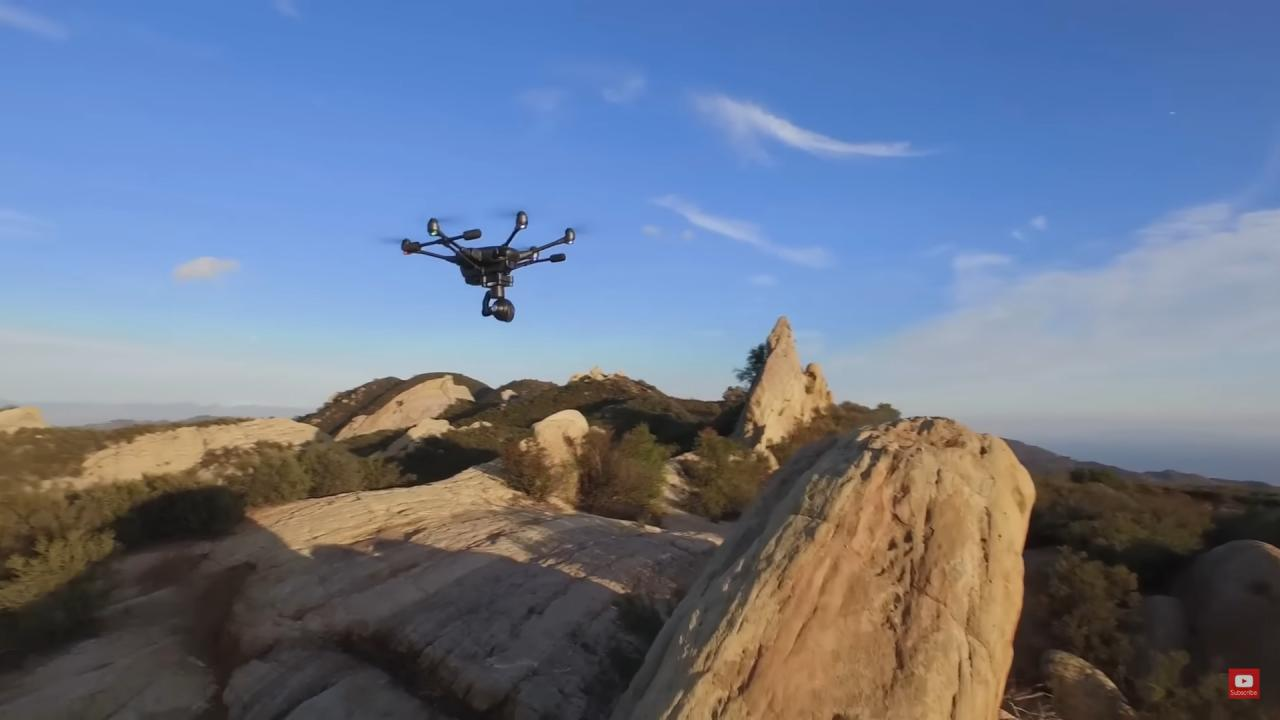Drone: (371, 198, 606, 334)
